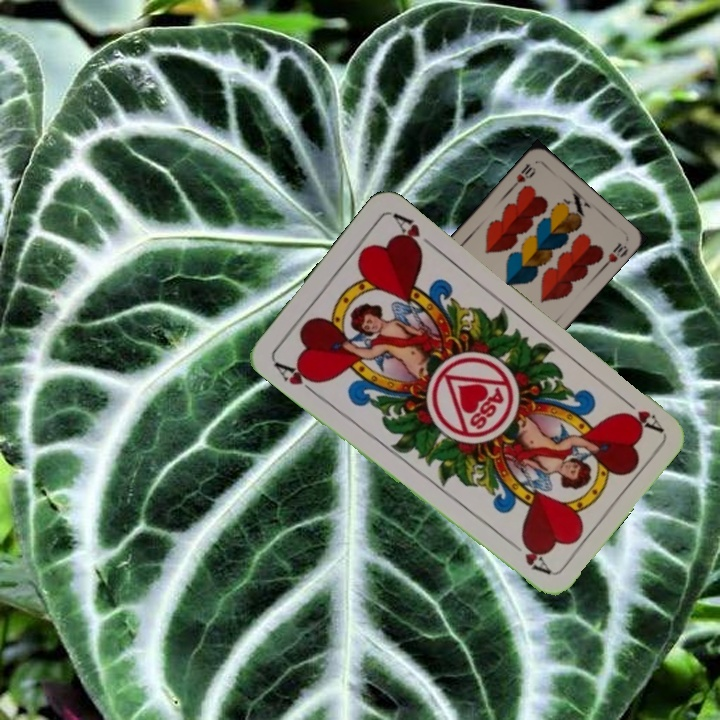H10: (507, 159, 539, 191)
HA: (269, 357, 323, 398), (614, 391, 665, 434)
